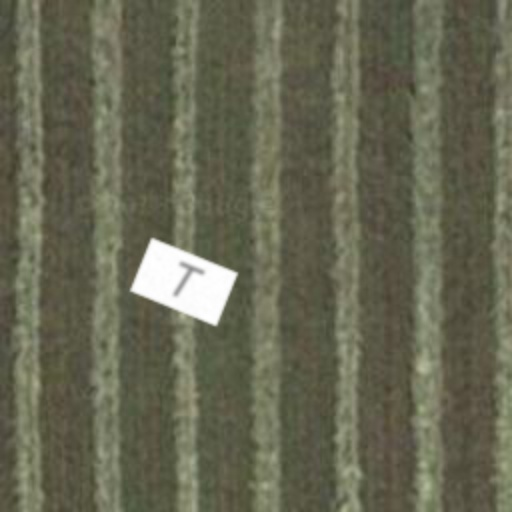rectangle: (122, 220, 246, 344)
